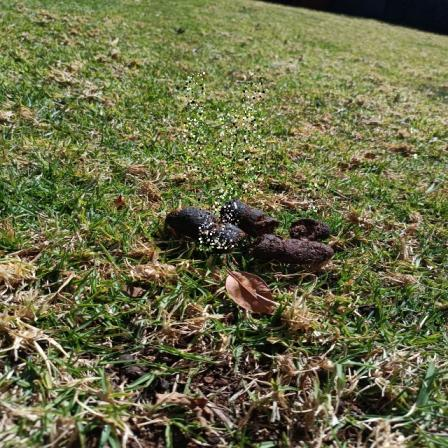dog-poop: (165, 195, 330, 268)
